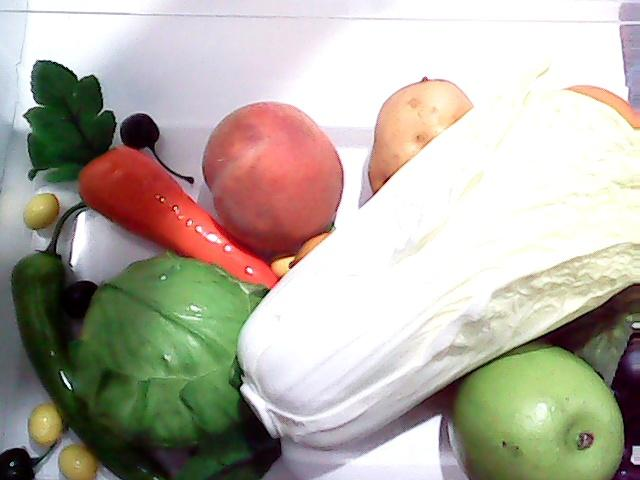apple: (444, 340, 628, 480), (450, 347, 623, 480)
cabbage: (69, 255, 283, 476)
carrot: (24, 58, 282, 294)
lemon: (562, 74, 640, 140)
mango: (288, 232, 336, 268)
napa cabbage: (238, 64, 640, 448)
peach: (200, 99, 348, 253)
pepper: (5, 228, 186, 480)
potato: (368, 74, 474, 198)
